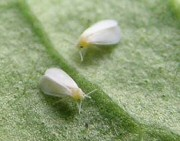whitefly: (39, 67, 94, 113), (71, 18, 123, 61)
